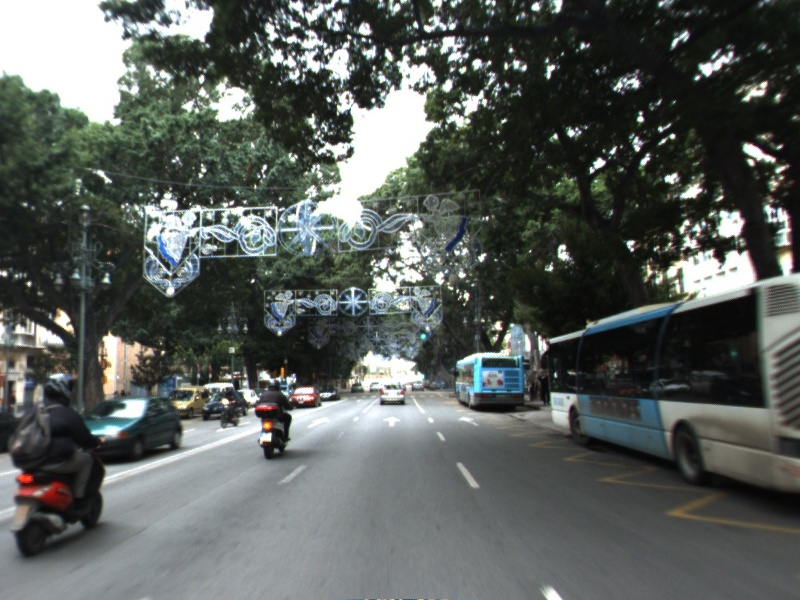STRAIGHT: (305, 415, 333, 430), (455, 414, 482, 429), (380, 414, 403, 428)
